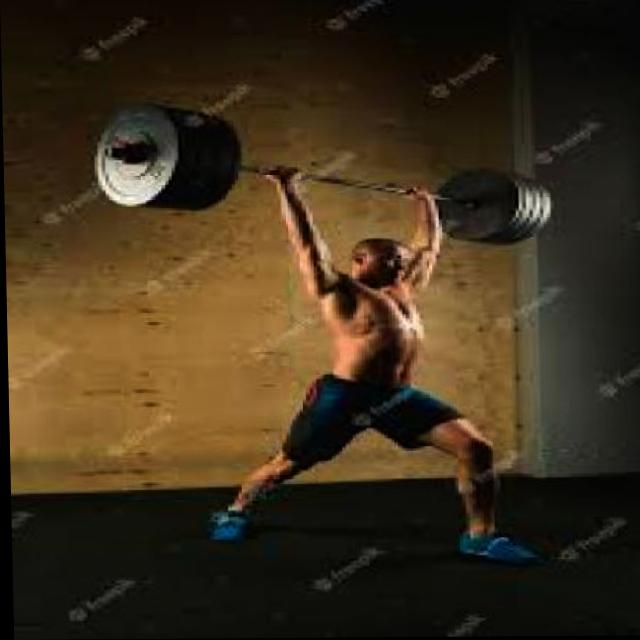barbell: (90, 102, 183, 220)
